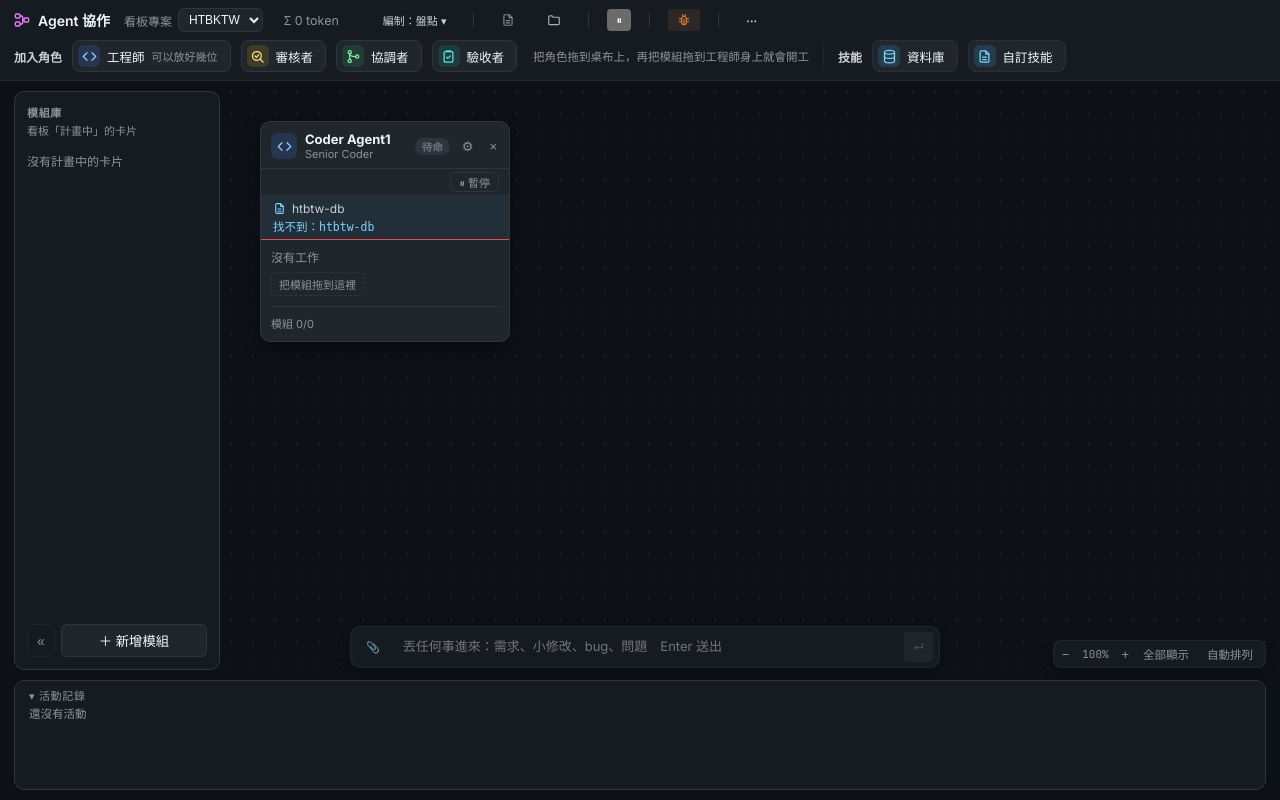
Test: AgentCanvasView › 自訂技能：資料夾搬走後，卡片標「找不到」，對話框列出失效路徑（不是什麼都沒有）
What coordinates should you click on to do the following:
click the button with test id "agent-custom-skills"
I would click on:
 (385, 218)
Its box is [261,196,509,240].
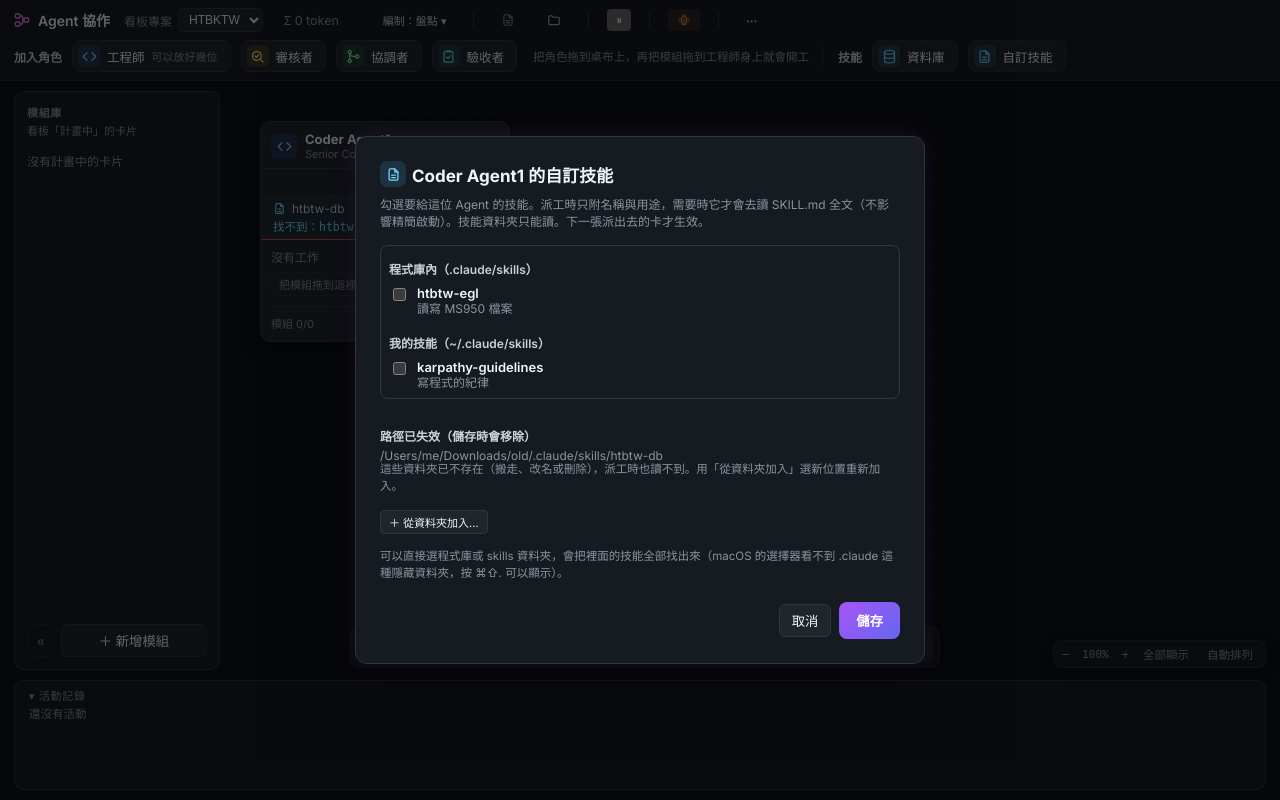
Result: the element with test id "custom-skills-lost" shows "/Users/me/Downloads/old/.claude/skills/htbtw-db" at [380,448,663,463]
